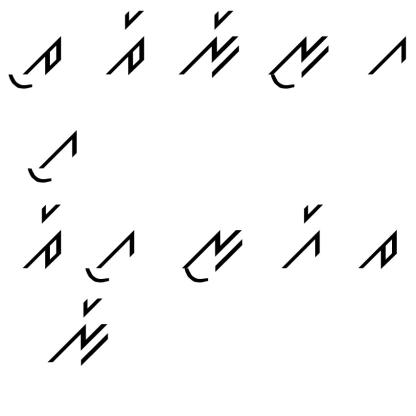ga: (363, 26, 409, 82)
gar: (274, 198, 334, 272)
gaw: (74, 225, 140, 286), (22, 122, 84, 184)
ngar: (47, 294, 118, 372), (171, 10, 246, 78)
ngaw: (260, 29, 332, 92), (176, 223, 247, 285)
ta: (354, 221, 401, 277)
tar: (97, 7, 152, 80), (18, 197, 67, 274)
taw: (8, 32, 78, 96)
